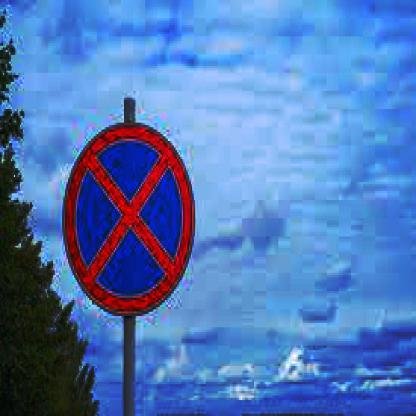No stopping: (64, 118, 195, 314)
